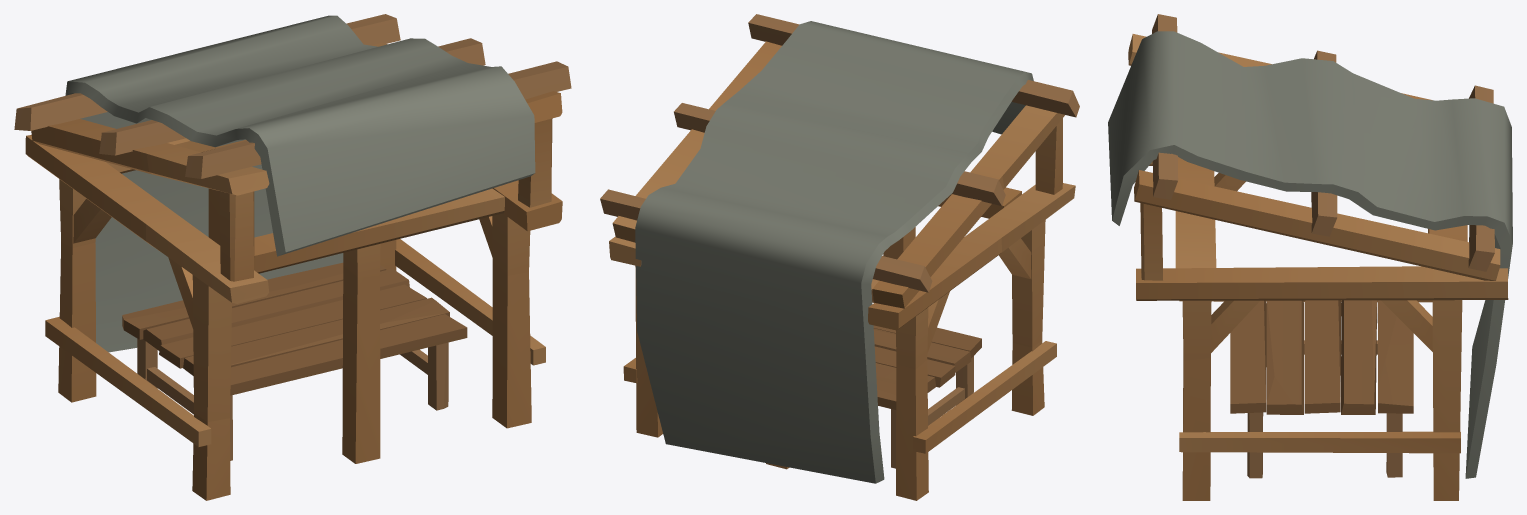
File: Market_F.fbx
The picture shows the model from 3 angles, left to right: view 1: azimuth 30°, elevation 25°; view 2: azimuth 150°, elevation 25°; view 3: azimuth 270°, elevation 25°; orthographic projection. The views are drawn at different scales.
Parts seen in each view (by area): view 1: Market_F; view 2: Market_F; view 3: Market_F.
Part boxes in pixels (box(x1,y1,x2,y2)): Market_F: box(14, 14, 571, 500); Market_F: box(600, 14, 1079, 500); Market_F: box(1108, 14, 1512, 500).
Size of the model in its own units: 361 by 338 by 364.
